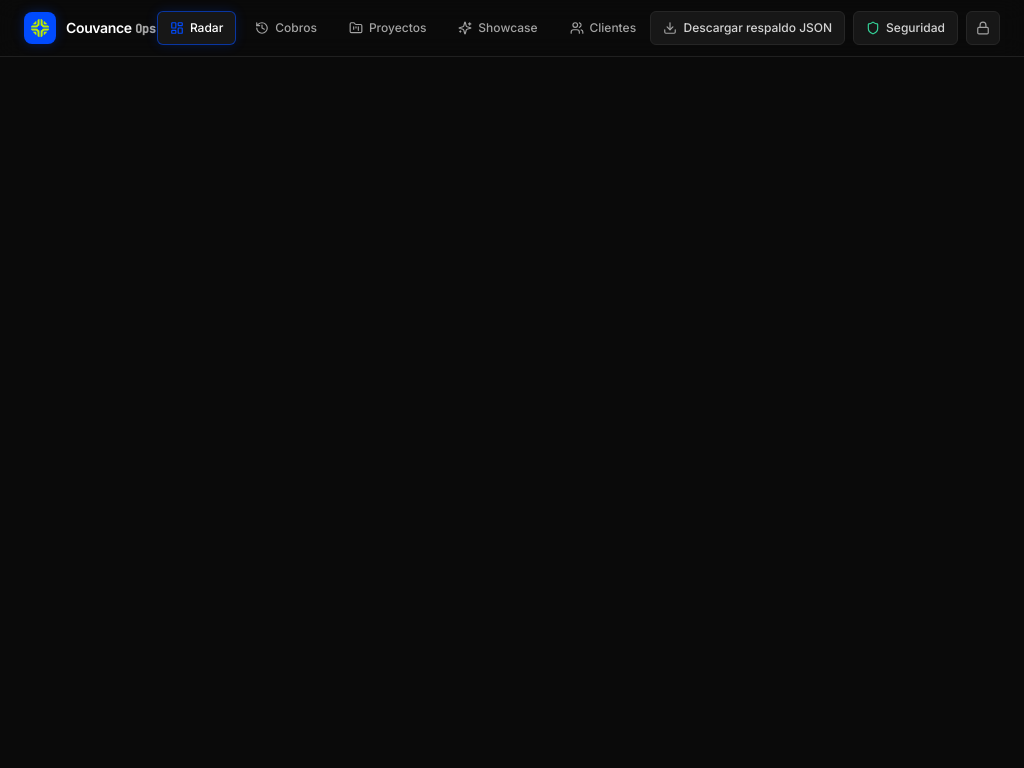
Scenario: UI & Responsive Testing - Navbar & Mobile Navigation › TC-RESP-04: Al pulsar Seguridad, abre el modal cargado dinámicamente
What coordinates should you click on to do the following:
click the button with aria-label "Seguridad y PIN maestro"
I would click on:
 (906, 28)
Its box is 853,11 -> 958,45.
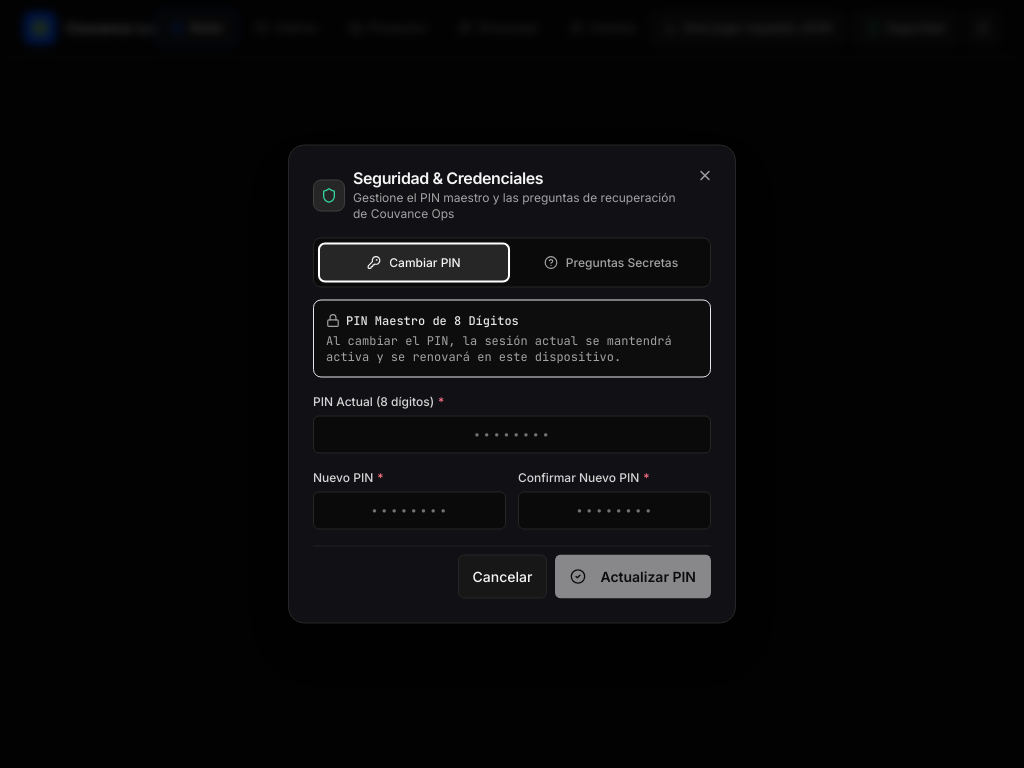
Result: the heading "Seguridad & Credenciales" is shown at 353,168 -> 543,188
Result: the text "Cambiar PIN" is shown at 389,254 -> 461,270
Result: the text "Preguntas Secretas" is shown at 566,254 -> 678,270
